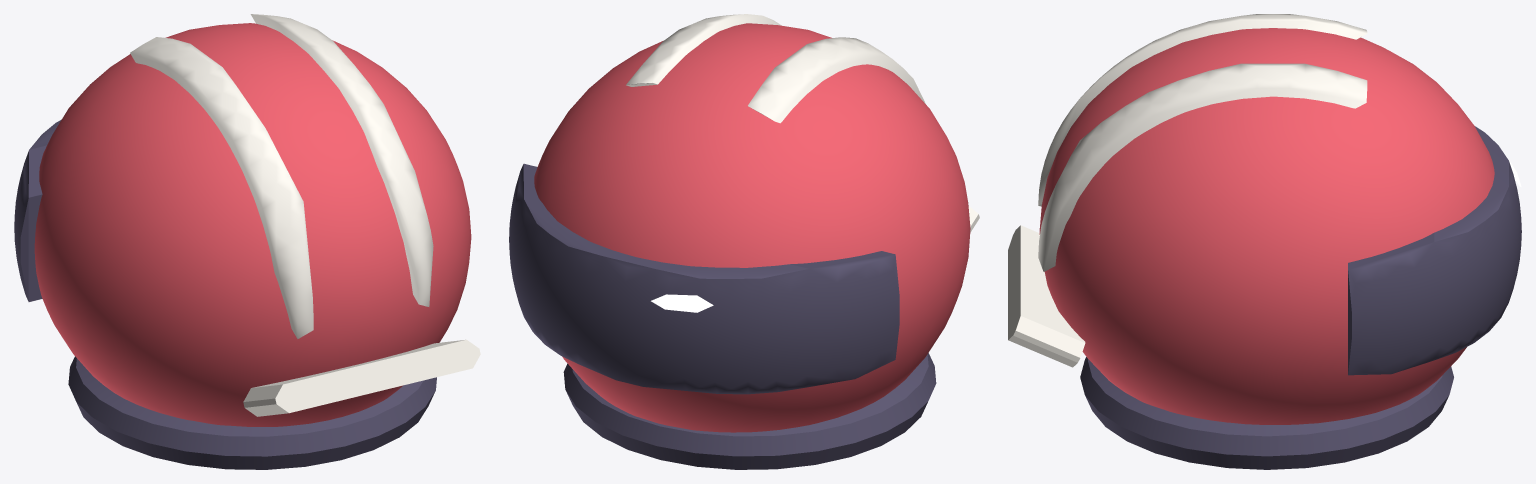
File: driver_head_ace.glb
The picture shows the model from 3 angles, left to right: view 1: azimuth 30°, elevation 25°; view 2: azimuth 150°, elevation 25°; view 3: azimuth 270°, elevation 25°; orthographic projection.
Parts seen in each view (by area): view 1: head_ace_helmet, head_ace_helmet_trim, head_ace_trim, head_ace_visor; view 2: head_ace_helmet, head_ace_visor, head_ace_trim, head_ace_helmet_trim, head_ace_glint; view 3: head_ace_helmet, head_ace_helmet_trim, head_ace_visor, head_ace_trim.
Part boxes in pixels (<box>): head_ace_helmet: <box>34,23,471,426</box>; head_ace_helmet_trim: <box>130,14,480,416</box>; head_ace_trim: <box>68,356,436,469</box>; head_ace_visor: <box>14,119,61,301</box>; head_ace_helmet: <box>534,23,970,432</box>; head_ace_visor: <box>509,163,899,394</box>; head_ace_trim: <box>563,353,936,469</box>; head_ace_helmet_trim: <box>626,14,979,232</box>; head_ace_glint: <box>651,294,713,312</box>; head_ace_helmet: <box>1039,28,1494,424</box>; head_ace_helmet_trim: <box>1008,14,1367,367</box>; head_ace_visor: <box>1348,126,1521,375</box>; head_ace_trim: <box>1080,357,1453,469</box>.
Bounding box in the file's own units: 0.4287 × 0.4017 × 0.496.
